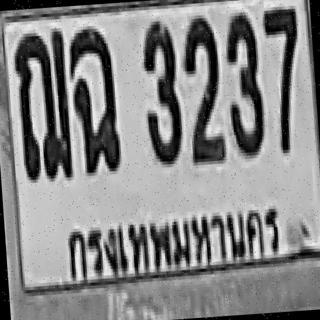A09: (66, 24, 120, 174)
A12: (11, 28, 73, 180)
N02: (180, 14, 224, 163)
N03: (138, 17, 183, 162), (222, 8, 264, 156)
N07: (262, 4, 305, 152)
P04: (62, 192, 284, 281)
